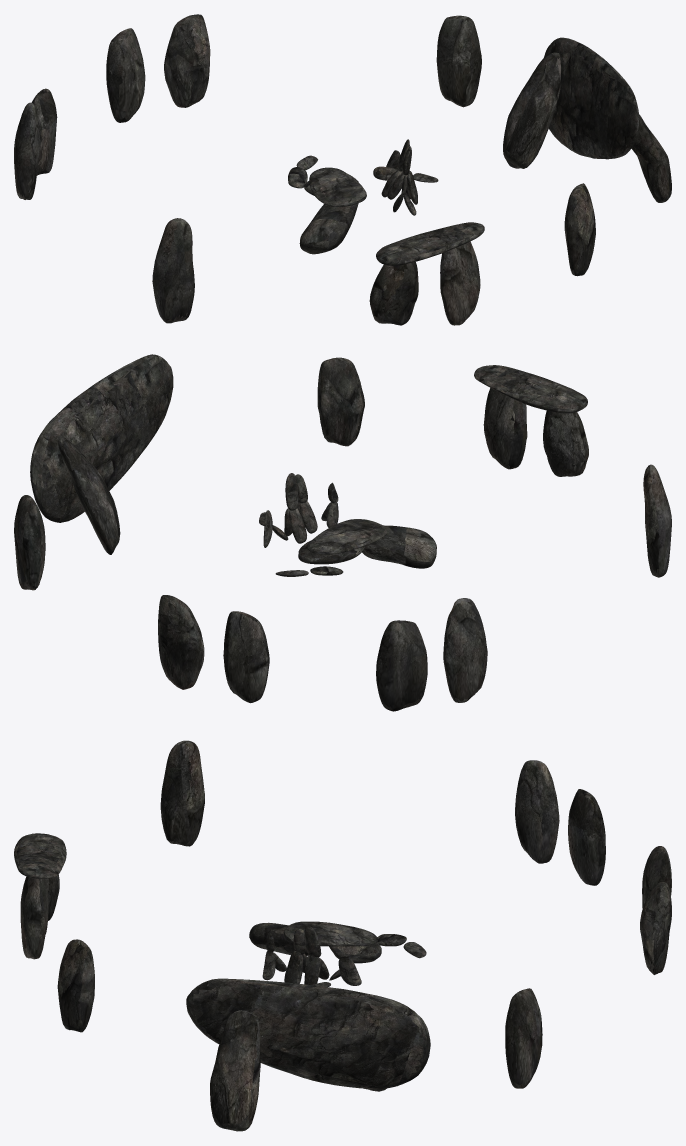
The model's file is Ritual_Site (1).fbx.
The picture shows the model from 3 angles, top to bottom: view 1: azimuth 30°, elevation 25°; view 2: azimuth 150°, elevation 25°; view 3: azimuth 270°, elevation 25°; orthographic projection. The views are drawn at different scales.
Parts seen in each view (by area): view 1: Ritual_Site; view 2: Ritual_Site; view 3: Ritual_Site.
Boxes of the visible parts, x1=… form: Ritual_Site: x1=14, y1=14, x2=671, y2=325; Ritual_Site: x1=14, y1=354, x2=671, y2=711; Ritual_Site: x1=14, y1=740, x2=671, y2=1131.
Size of the model in its own units: 3977 by 896 by 3979.
